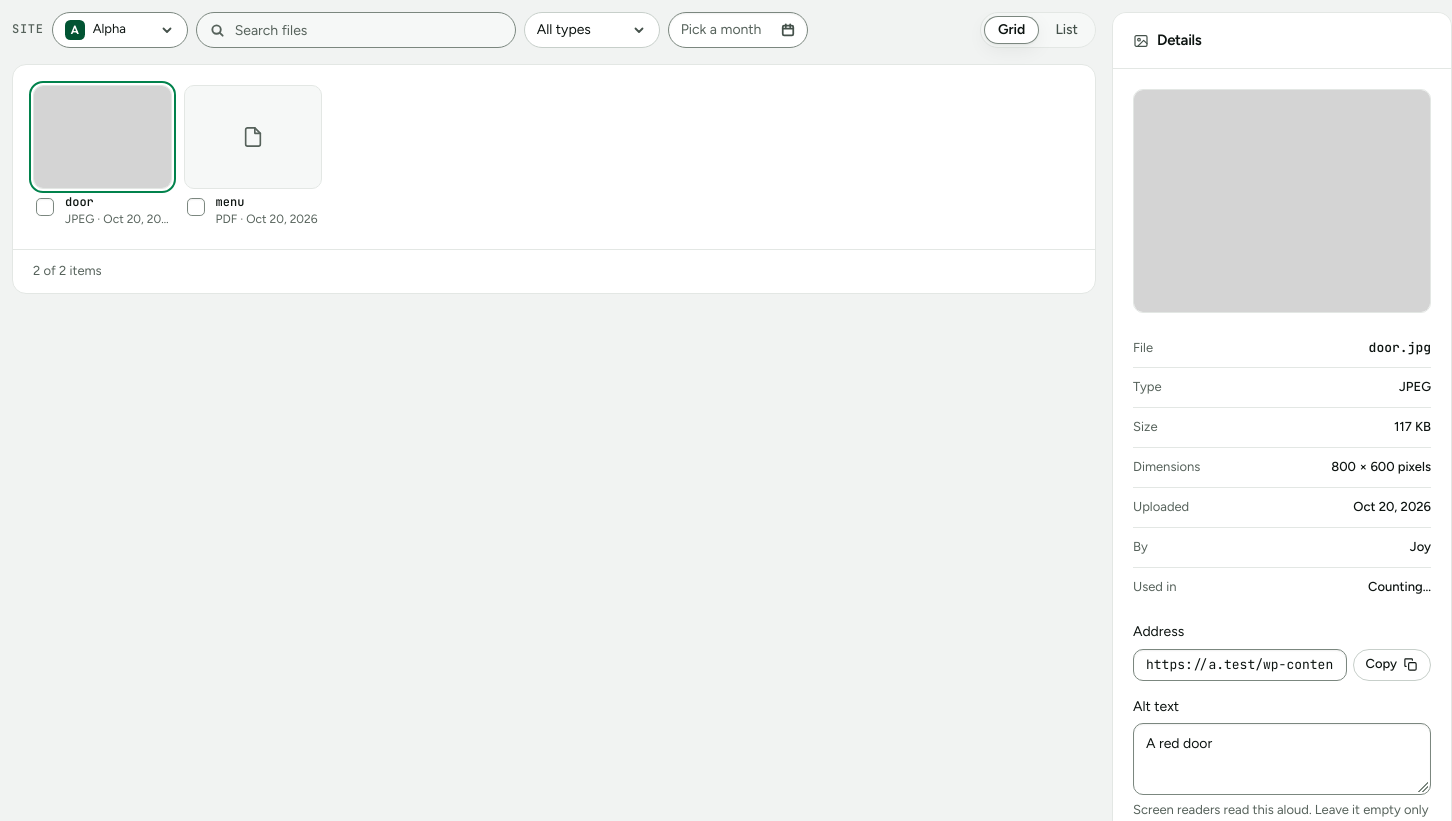
Test case: filters, the list view, and bulk trash with Undo
Click the dropdown labelled "type" at (592, 30), box [524, 12, 660, 48]
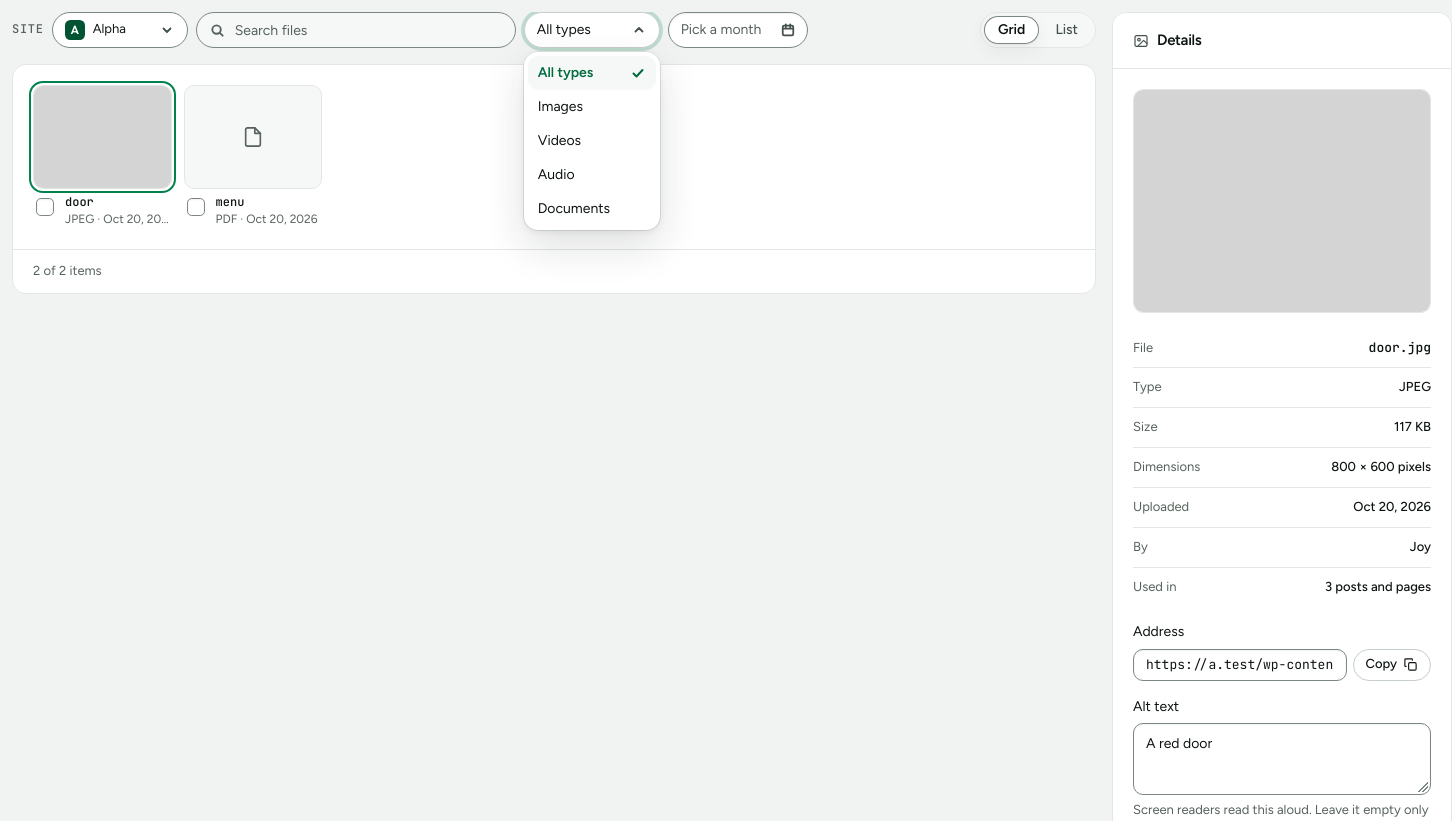
Click the option "Documents" at (574, 208), box [538, 200, 610, 217]
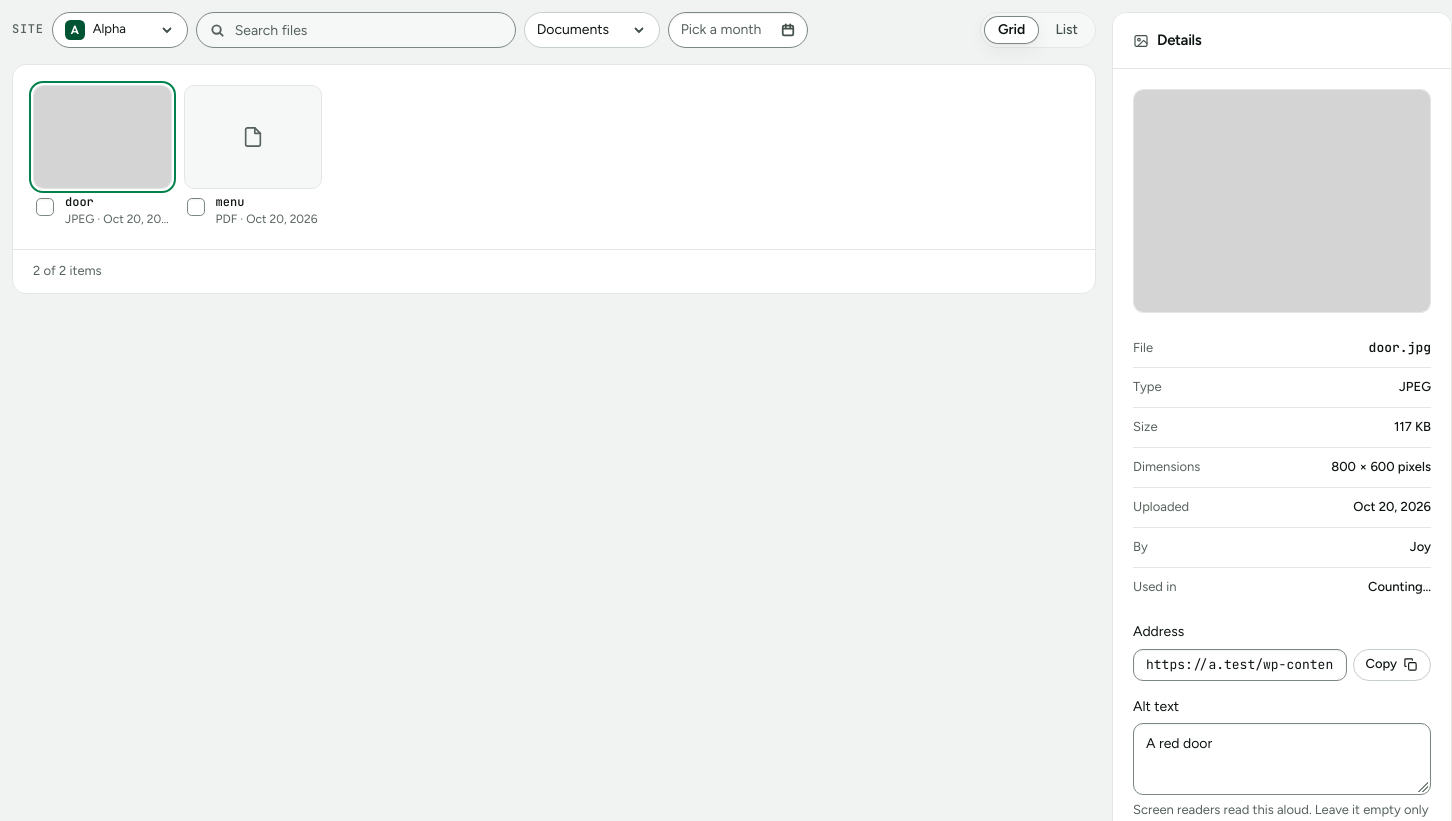
Click the button "List" at (1067, 30), box [1041, 16, 1092, 44]
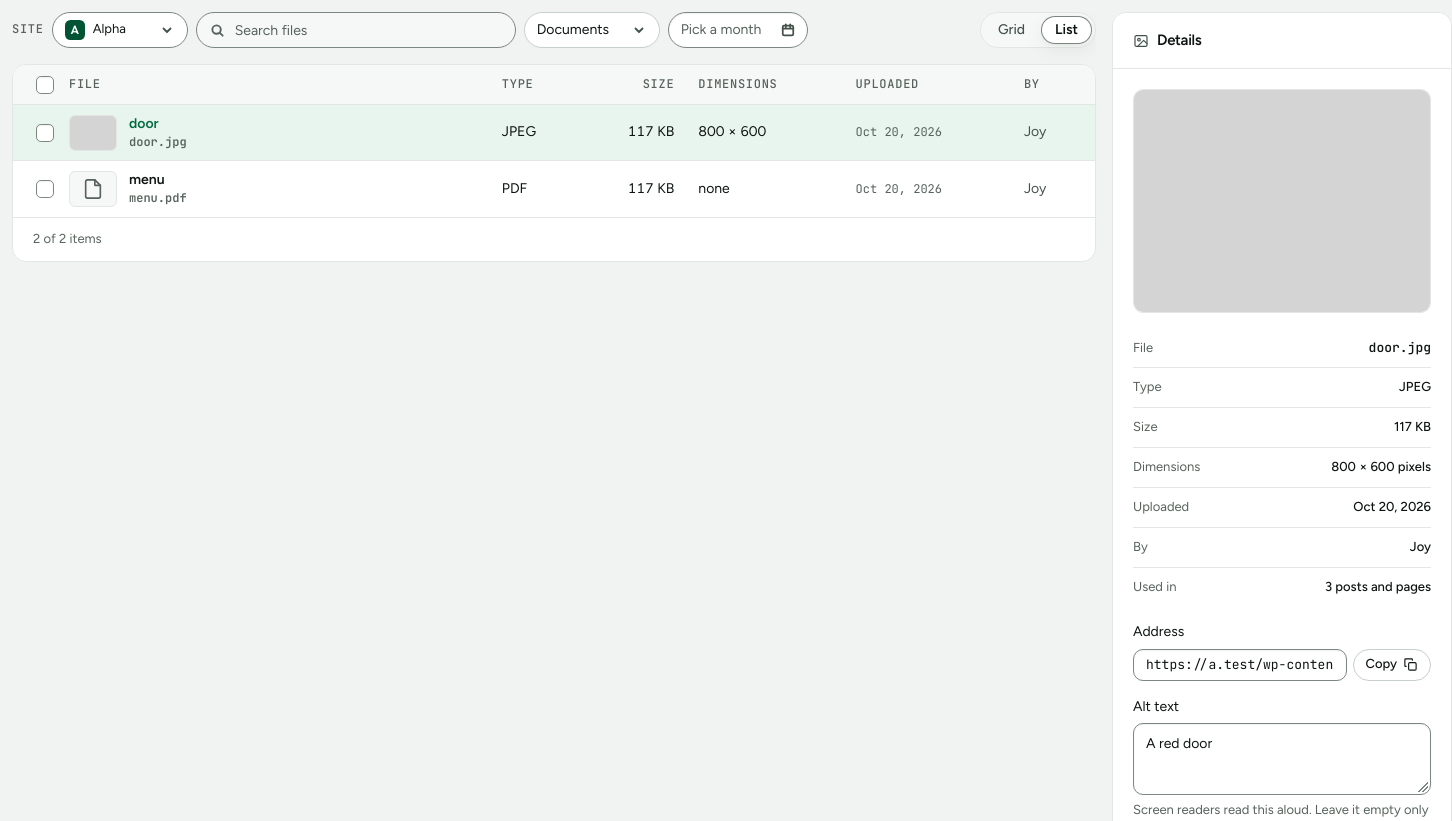
Now the text "menu.pdf" is shown, box [129, 190, 187, 208]
Click the checkbox named "Tick every item shown" at (45, 84), box [36, 76, 54, 94]
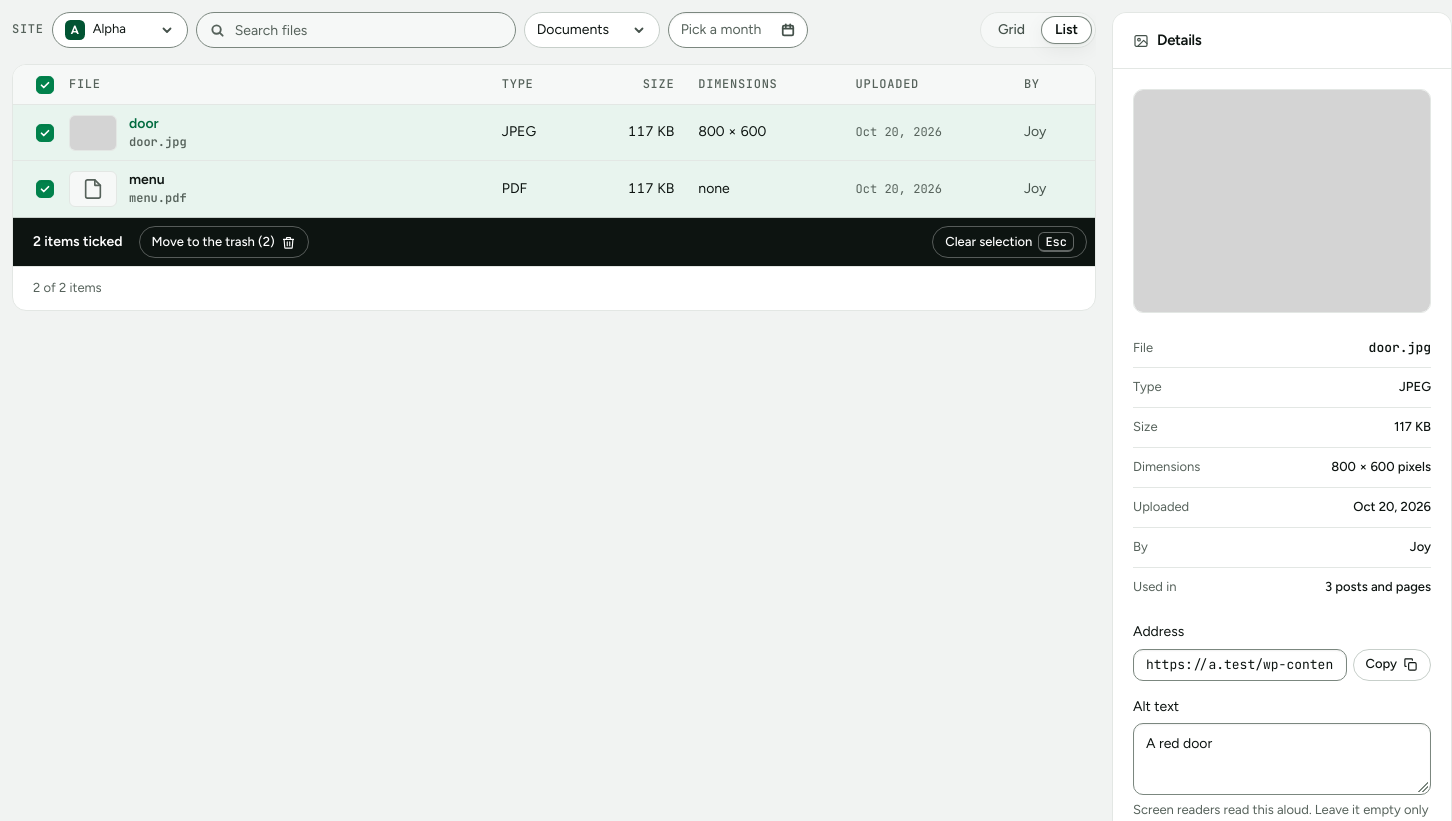
Click the button "Move to the trash (2)" at (224, 242), box [139, 226, 309, 258]
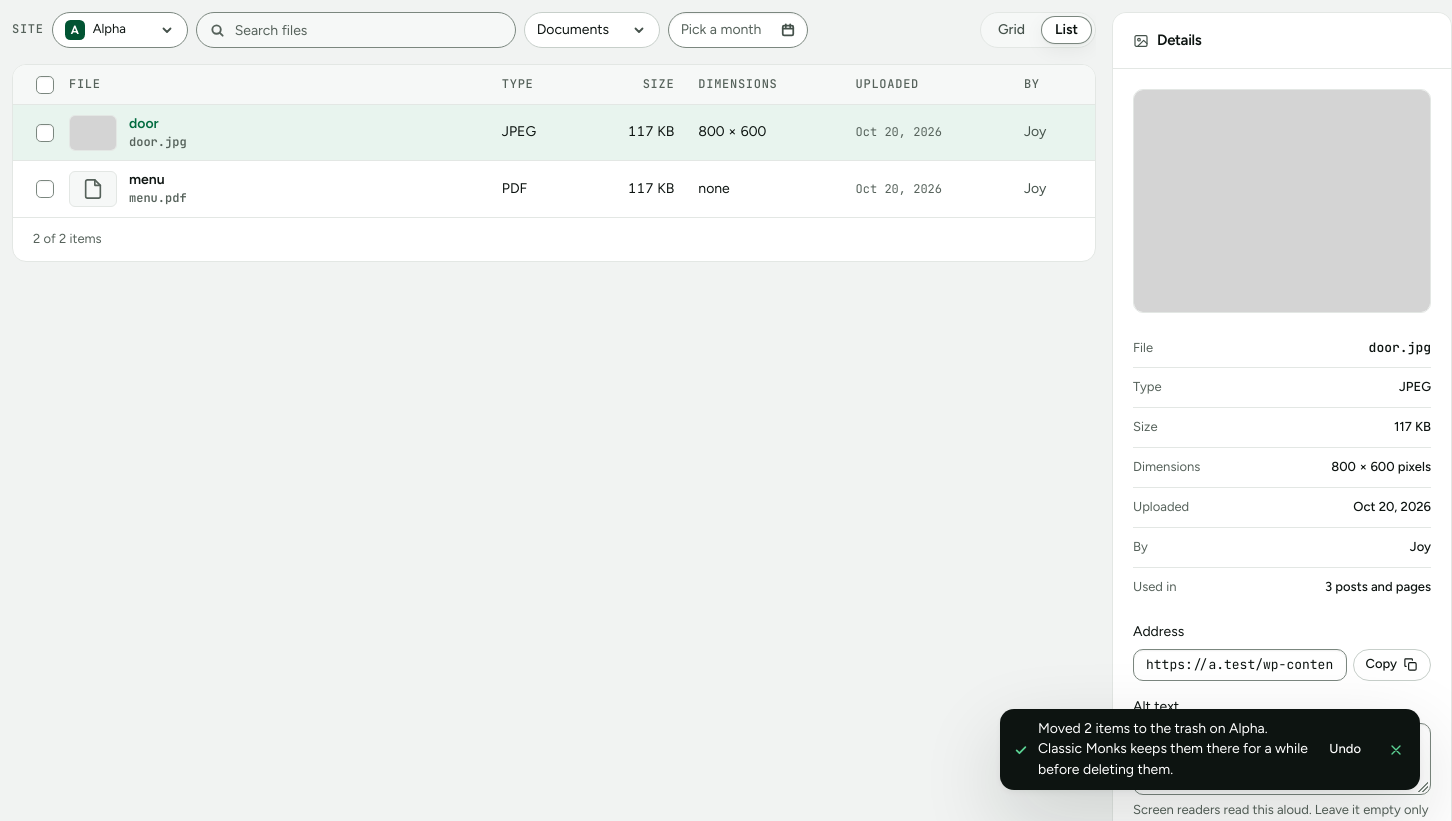
Now the text "Moved 2 items to the trash on Alpha" is shown, box [1038, 720, 1308, 778]
Click the button "Undo" at (1345, 750), box [1318, 736, 1372, 764]
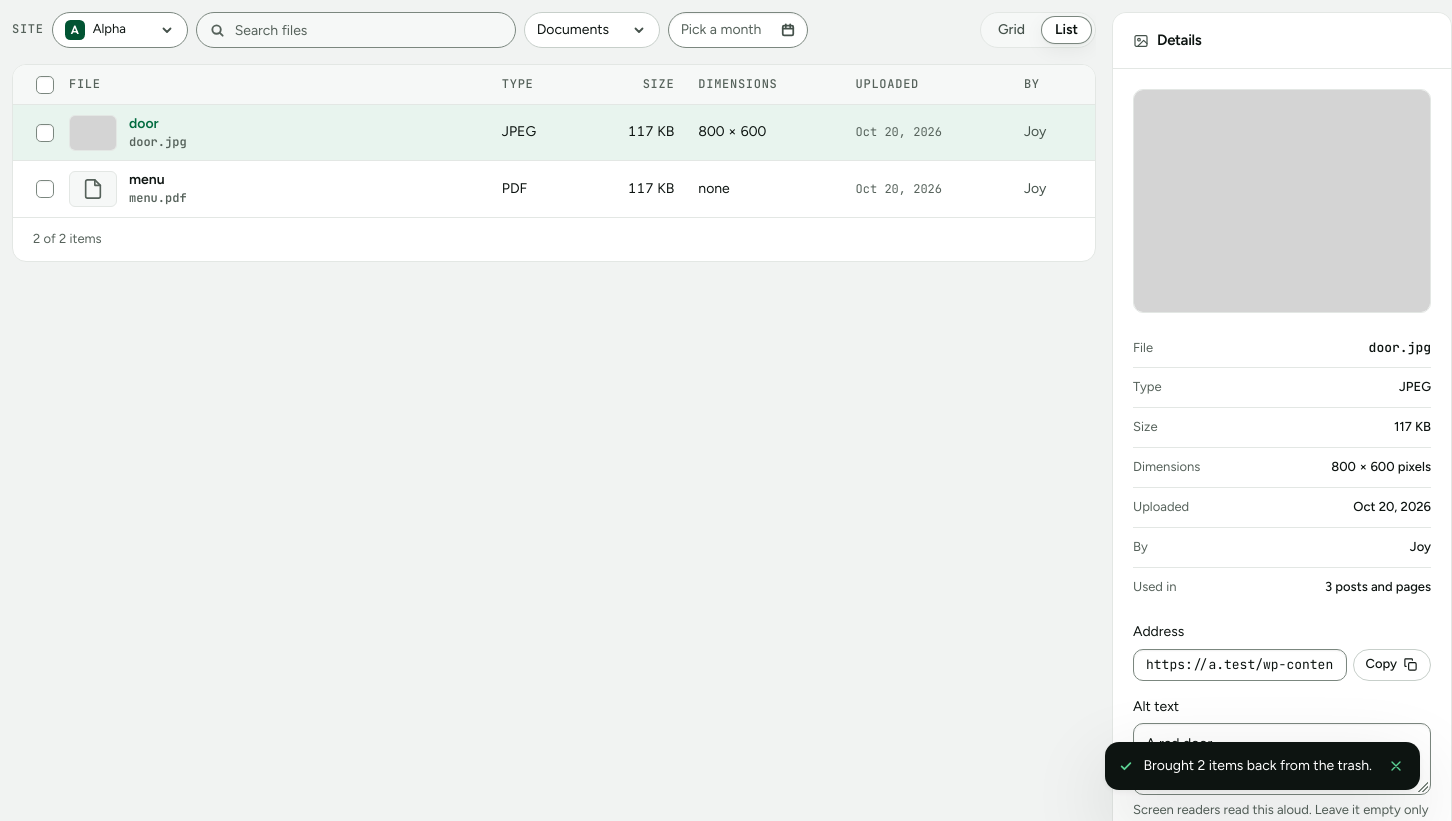
Now the text "Brought 2 items back from the trash." is shown, box [1144, 756, 1372, 776]
